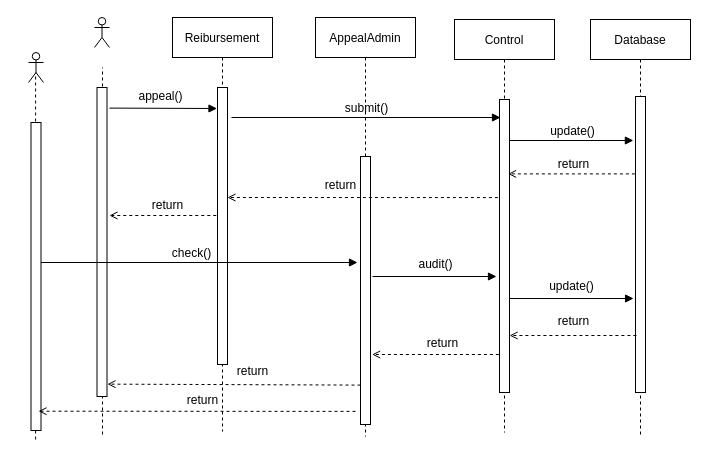
This 708x458 diagram has some shape labels left out. Each missing label, with the centre of its shape:
Auditor: the point at 36,67
Employee: the point at 102,32
